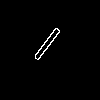I: (25, 25, 64, 70)
